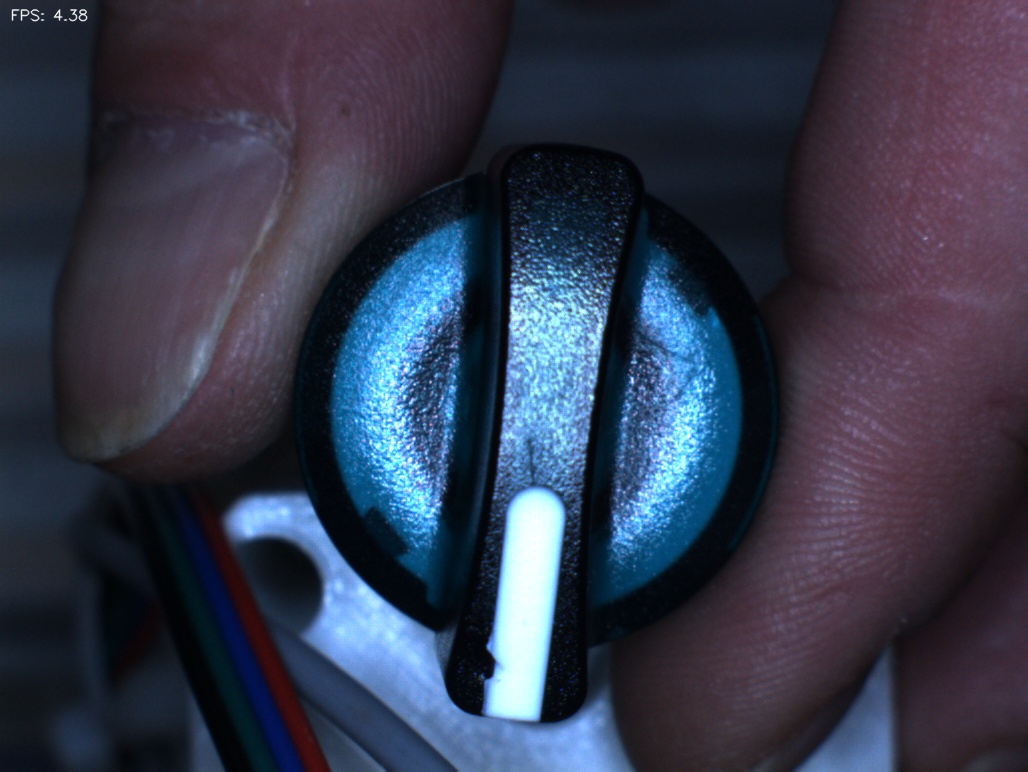Choc: (450, 633, 520, 703)
